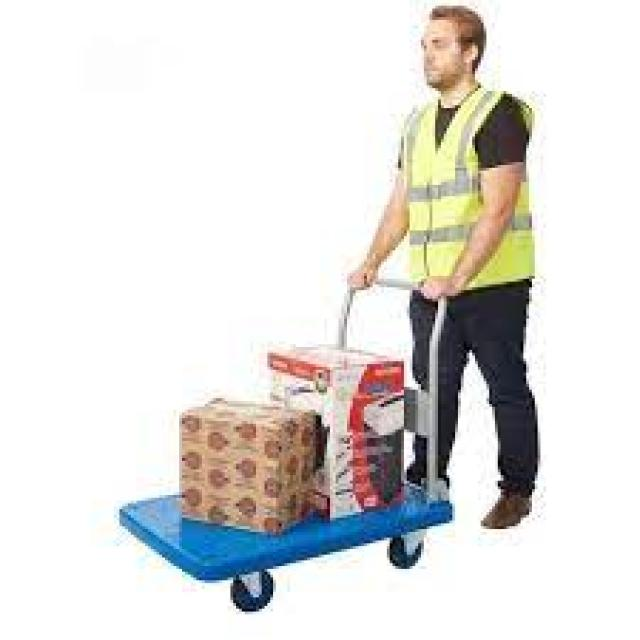Person: (346, 3, 537, 530)
